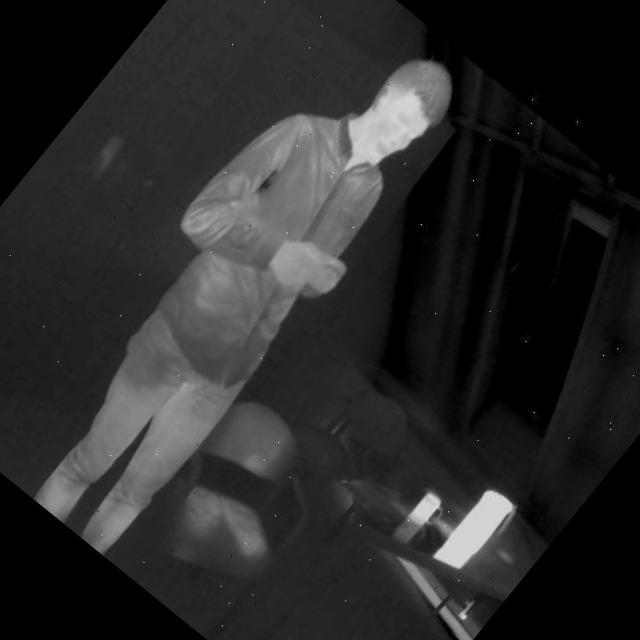person: (0, 0, 498, 569)
